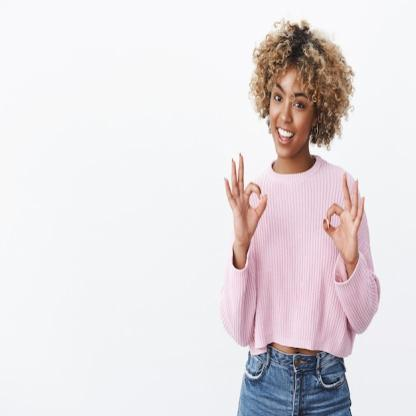ok: (221, 150, 270, 248), (320, 166, 368, 260)
